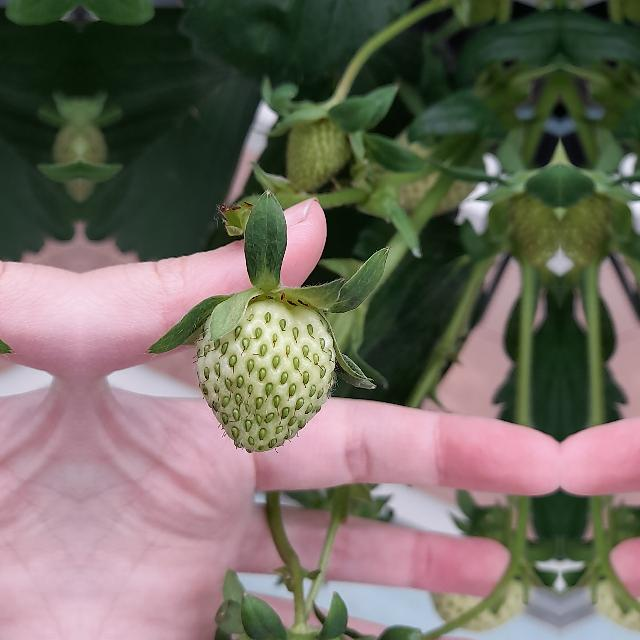Health_25: (197, 300, 336, 452)
